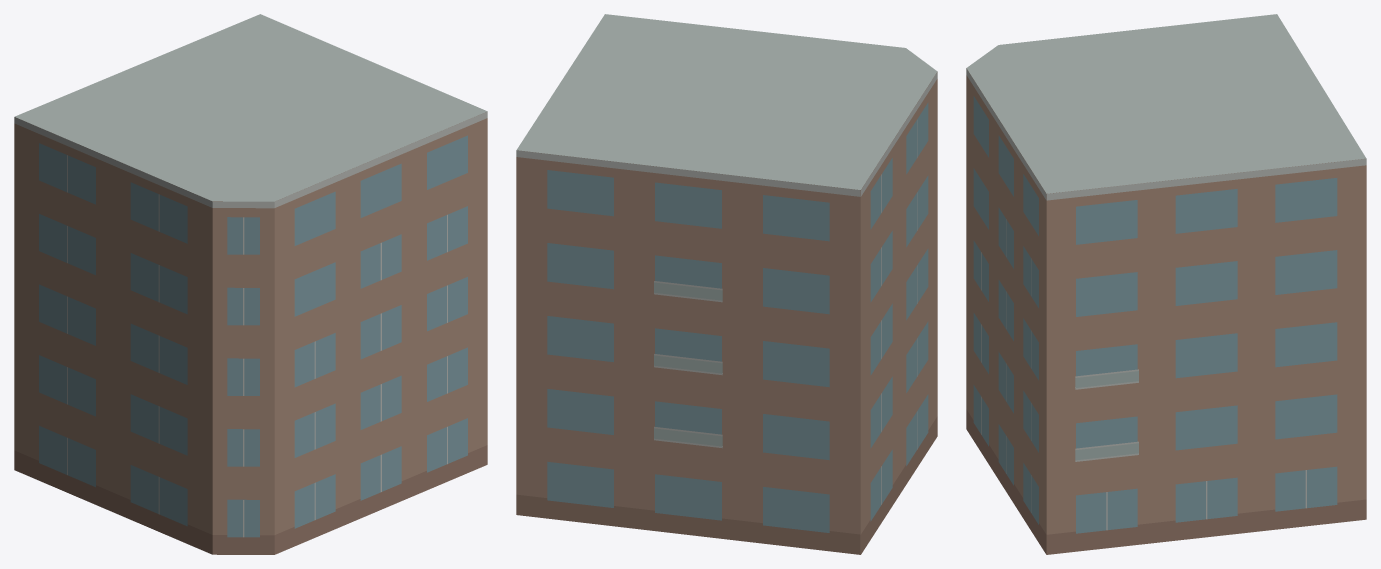
File: survey-upis-32928227.glb
The picture shows the model from 3 angles, left to right: view 1: azimuth 30°, elevation 25°; view 2: azimuth 150°, elevation 25°; view 3: azimuth 270°, elevation 25°; orthographic projection. The views are drawn at different scales.
Visible parts, largest first — view 1: survey-upis-32928227.tmp; view 2: survey-upis-32928227.tmp; view 3: survey-upis-32928227.tmp.
Boxes of the visible parts, x1,y1,x2,y2 form: survey-upis-32928227.tmp: [14, 14, 487, 554]; survey-upis-32928227.tmp: [516, 14, 937, 554]; survey-upis-32928227.tmp: [966, 14, 1366, 554].
Size of the model in its own units: 13.95 by 13.05 by 13.12.
